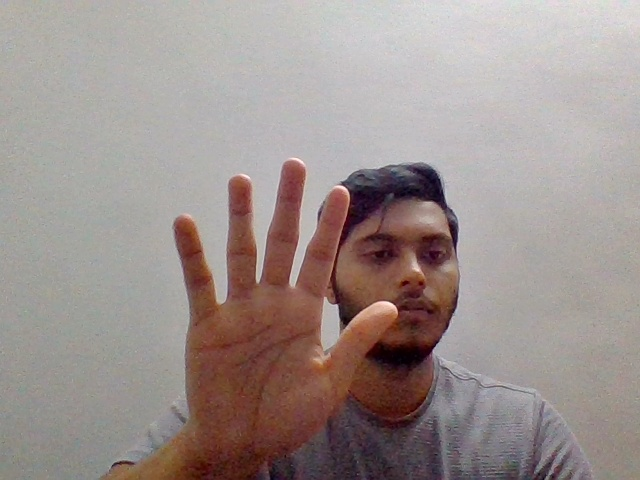Hello: (160, 150, 402, 473)
